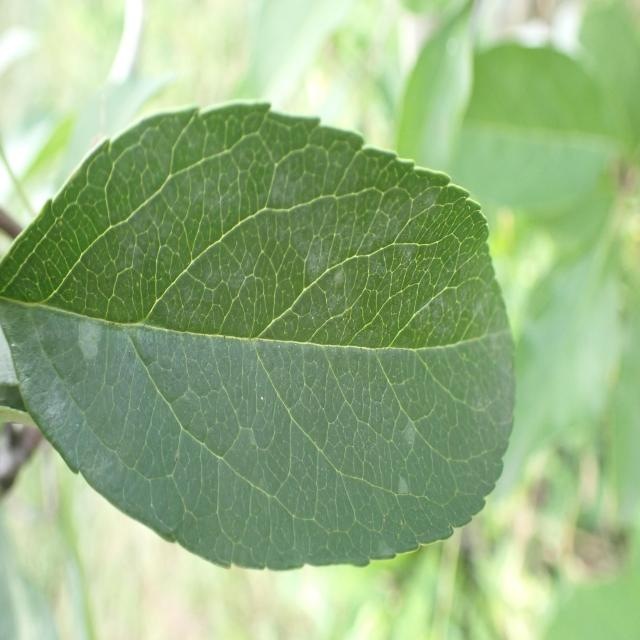Powdery_mildew: (14, 93, 519, 582)
